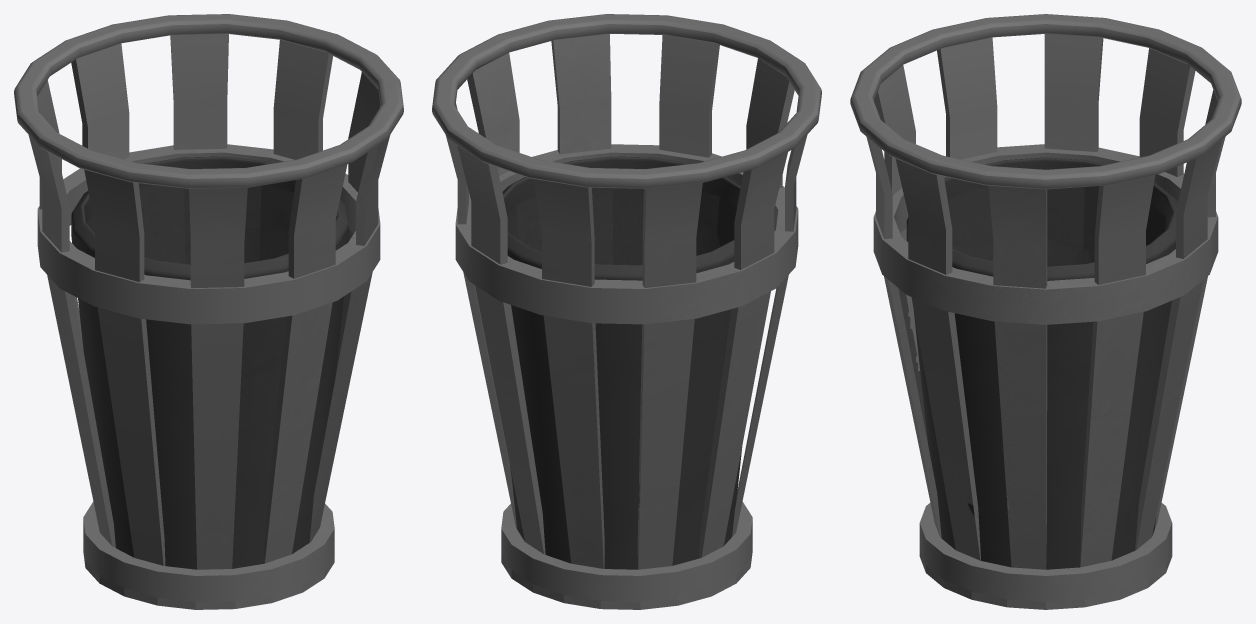
The model's file is papelera.obj.
3 renders of one model, left to right at view 1: azimuth 30°, elevation 25°; view 2: azimuth 150°, elevation 25°; view 3: azimuth 270°, elevation 25°, orthographic.
Visible parts, largest first — view 1: pCylinder8; view 2: pCylinder8; view 3: pCylinder8.
Part boxes in pixels (left/top/right/bottom): pCylinder8: left=14, top=14, right=403, bottom=609; pCylinder8: left=432, top=14, right=821, bottom=609; pCylinder8: left=850, top=14, right=1241, bottom=609.
Bounding box in the file's own units: 4.09 × 5.33 × 4.09.
1 material, 1 textured.
